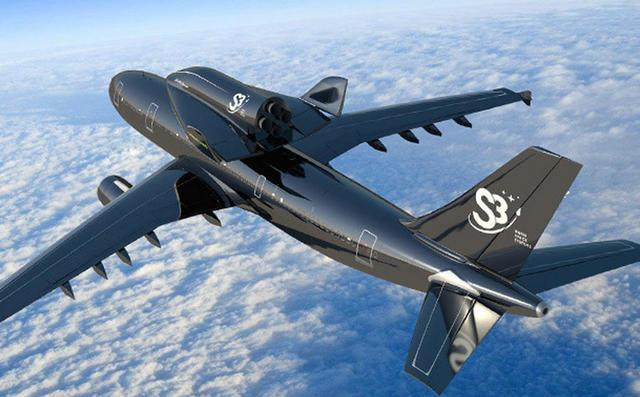airplane: (2, 65, 640, 391)
